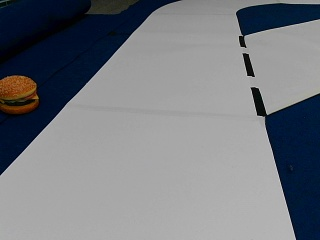burger: (0, 73, 38, 113)
